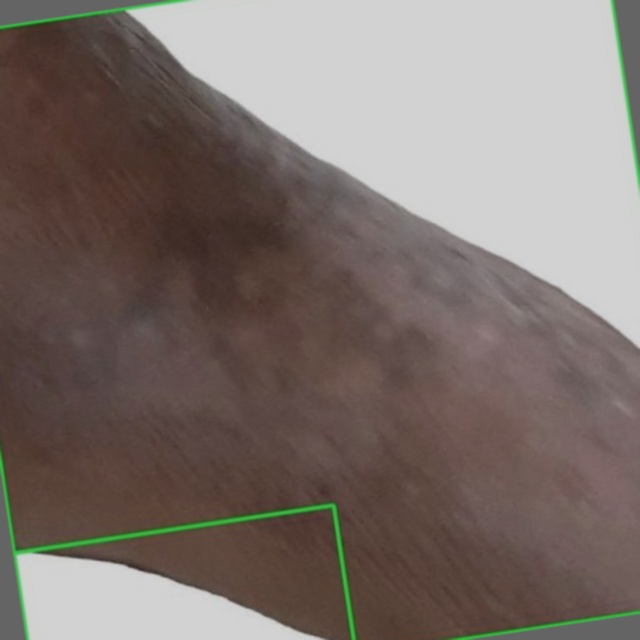Eczema: (0, 0, 639, 639), (14, 505, 353, 639)
